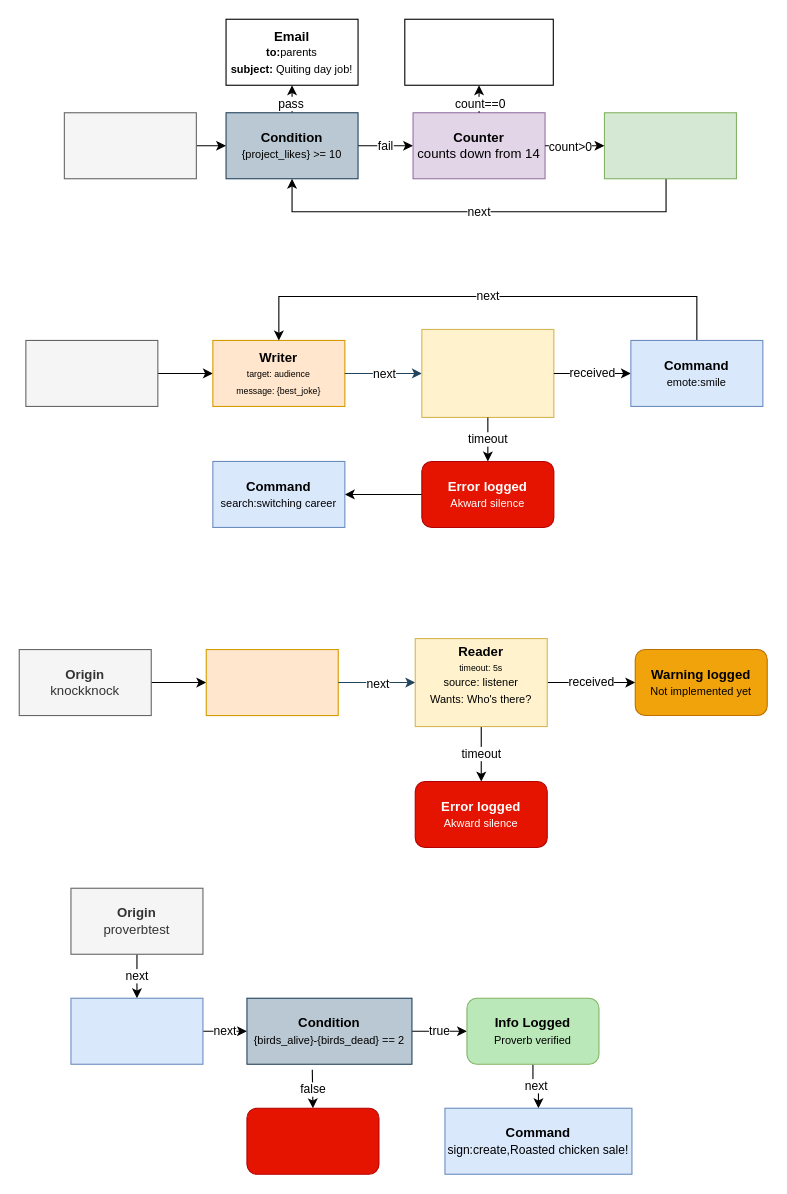
Some shapes in this 787 by 1194 pixel diagram are drawn without their labels. Here are the shapes that lost their labels. From the top down, the centre of each, then its label:
At (x=478, y=51): "Email to: siteadmin subject: Likes system broken".
At (x=129, y=145): "Origin likeschecker".
At (x=669, y=145): "Delay Wait for 1d".
At (x=91, y=372): "Origin perform".
At (x=487, y=372): "Reader timeout: 5s source: audience Wants: laughing".
At (x=271, y=682): "Writer target: listener message: Knock, knock...".
At (x=136, y=1030): "Command throw:stone".
At (x=312, y=1140): "Error logged Proverb false".
